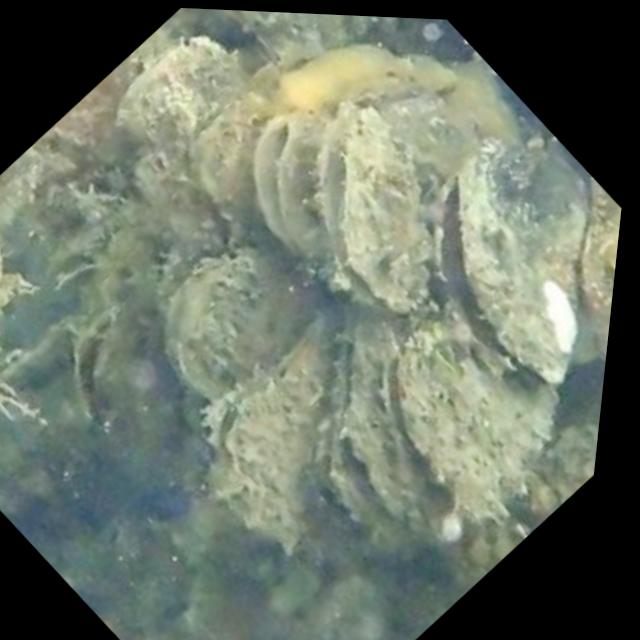Oyster-Closed: (383, 323, 563, 522), (205, 310, 336, 552)
Oyster-Indeterminate: (165, 249, 301, 399), (117, 41, 241, 162), (584, 181, 621, 354)
Oyster-Open: (427, 145, 588, 390), (328, 308, 446, 543), (314, 107, 429, 315), (71, 306, 160, 451), (248, 111, 333, 259)
